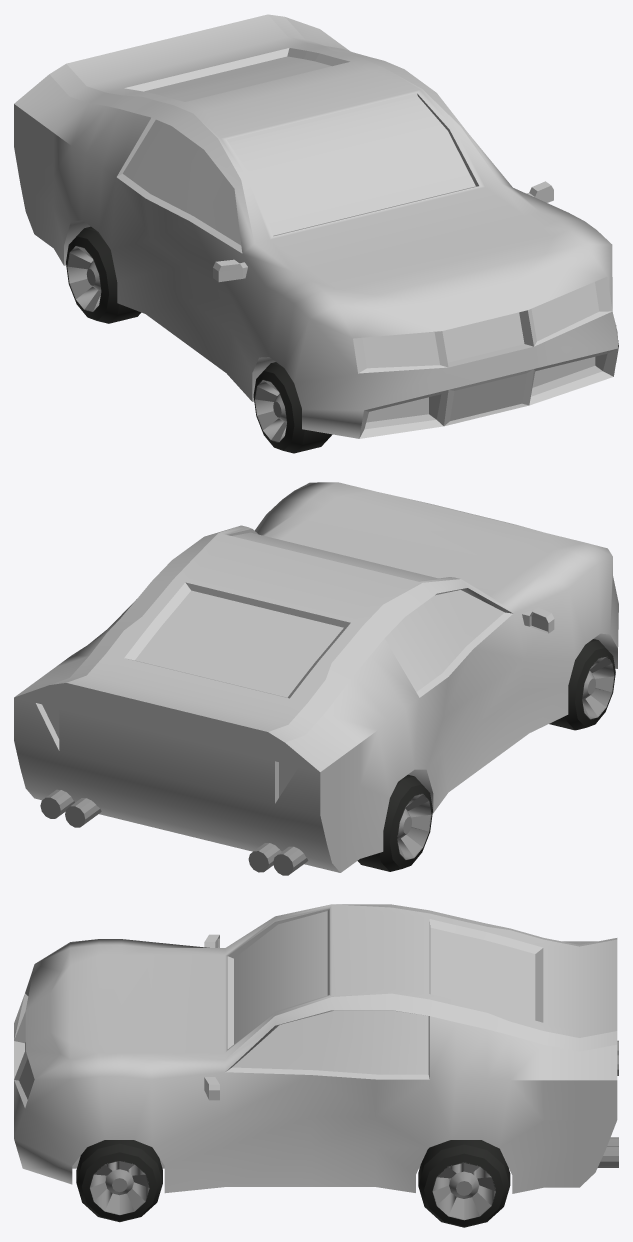
Rendered from auto4.fbx.
3 renders of one model, top to bottom at view 1: azimuth 30°, elevation 25°; view 2: azimuth 150°, elevation 25°; view 3: azimuth 270°, elevation 25°, orthographic. The views are drawn at different scales.
Visible parts, largest first — view 1: auto4, rechts_achter, rechts_voor; view 2: auto4, rechts_achter, rechts_voor, pijp; view 3: auto4, links_achter, links_voor, pijp.
Boxes of the visible parts, <box> form: auto4: <box>14,14,618,438</box>; rechts_achter: <box>66,226,141,323</box>; rechts_voor: <box>253,362,332,453</box>; auto4: <box>14,482,618,872</box>; rechts_achter: <box>357,774,432,871</box>; rechts_voor: <box>549,639,615,730</box>; pijp: <box>40,789,308,875</box>; auto4: <box>14,904,617,1193</box>; links_achter: <box>418,1140,510,1227</box>; links_voor: <box>76,1140,162,1222</box>; pijp: <box>597,1040,618,1167</box>.
Size of the model in its own units: 2.12 by 1.33 by 3.55.
